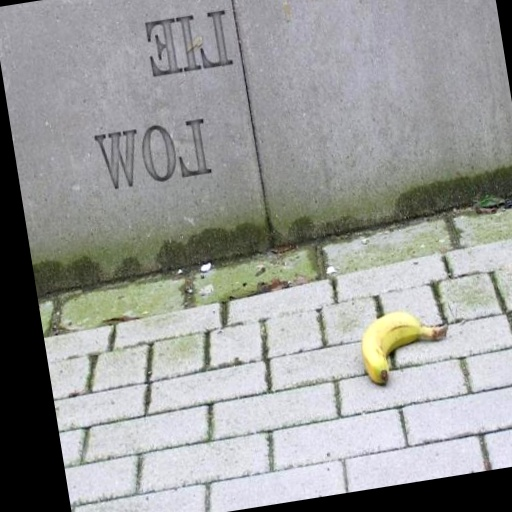fruit: (361, 311, 447, 384)
